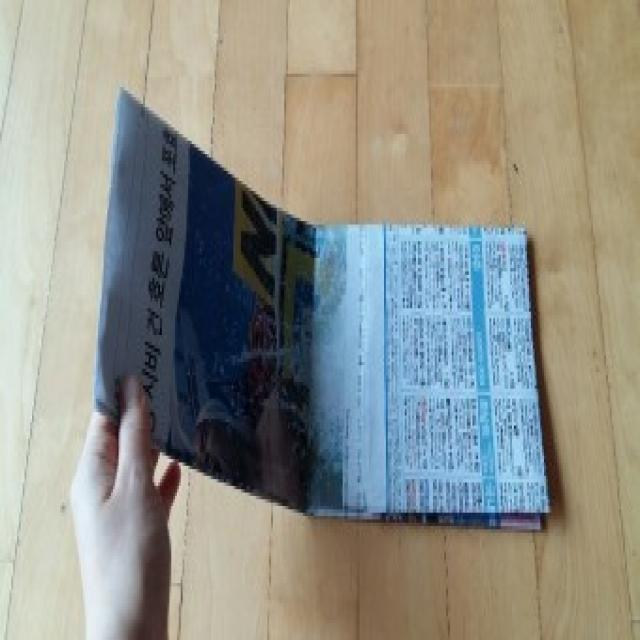Newspaper: (92, 91, 551, 530)
